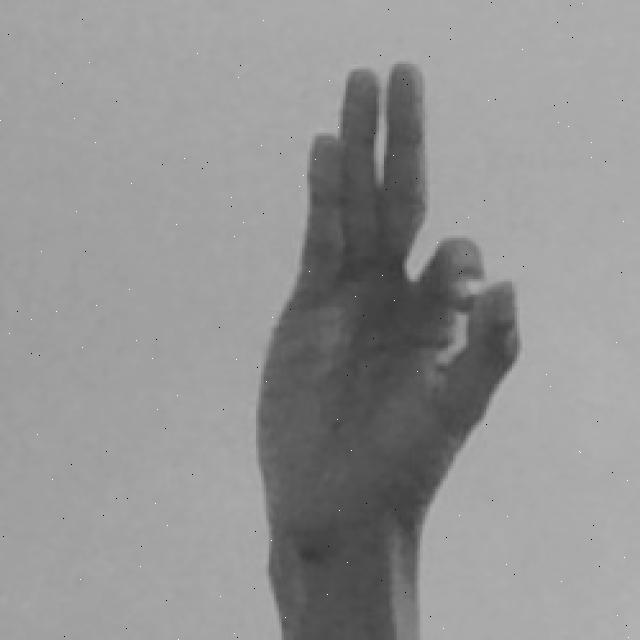F: (250, 59, 527, 640)
